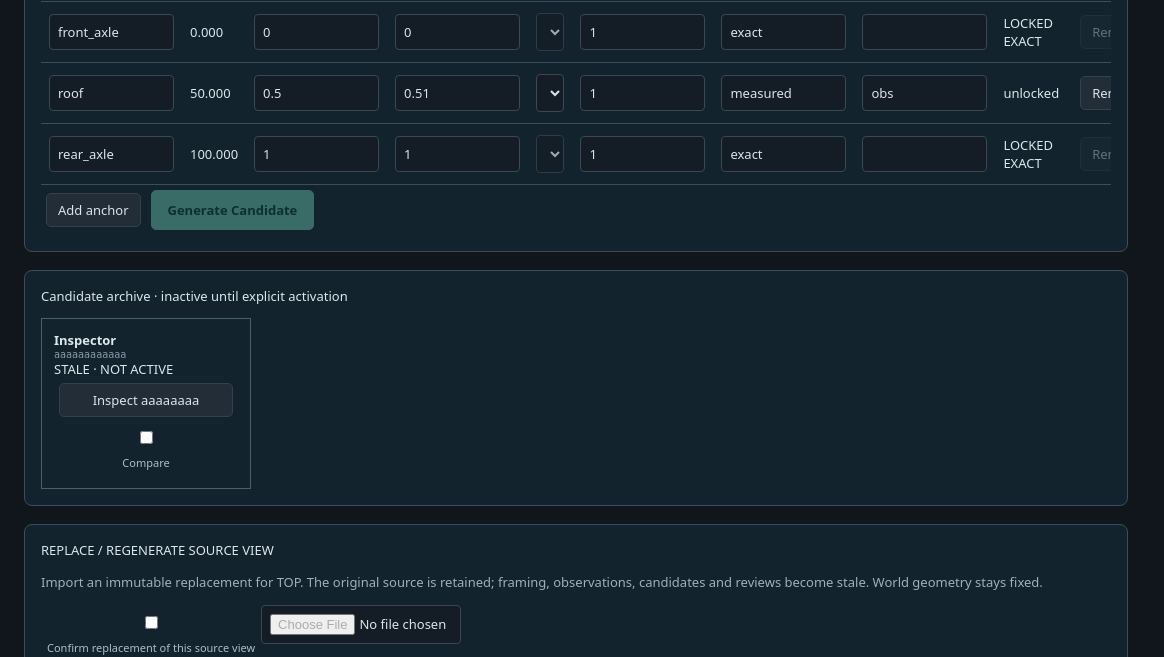
requires a rejection reason and keeps stale activation disabled
Later steps or results of the test are not shown.
(page scrolled)
Expected: the field named "Semantic 1" is shown, [49, 75, 174, 111]
Click the 6th button.
click(146, 400)  # box [59, 383, 233, 417]
(page scrolled)
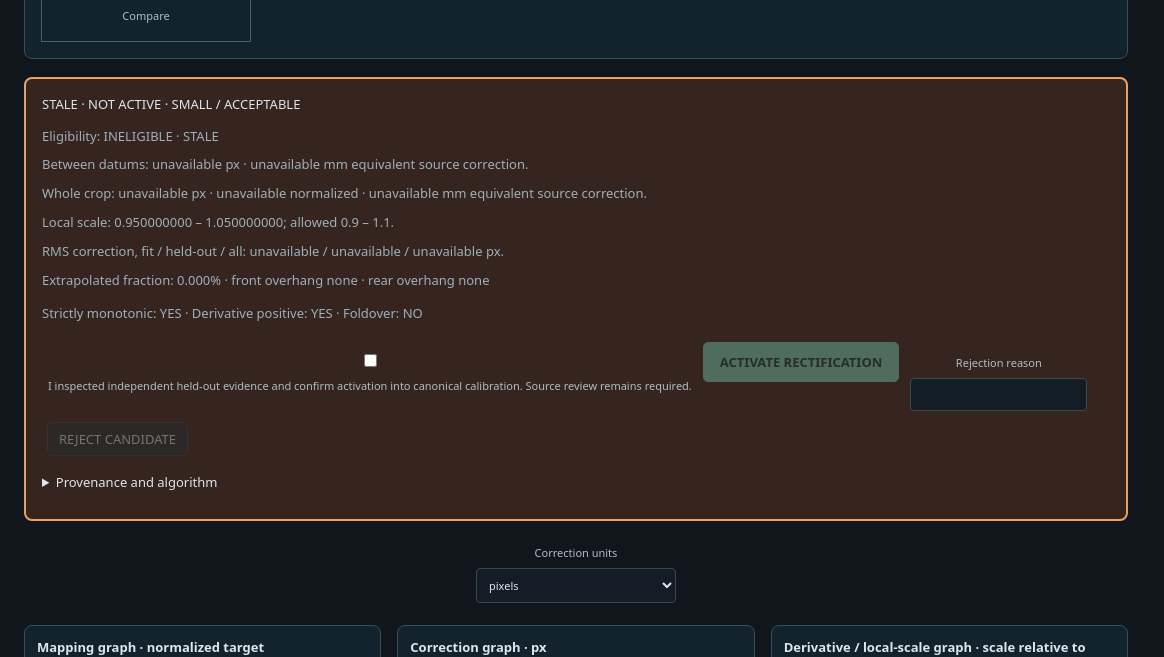
Expected: the element named "Candidate decision" is shown
Click the checkbox named "Confirm rectification activation".
click(370, 361)  # box [364, 354, 377, 367]
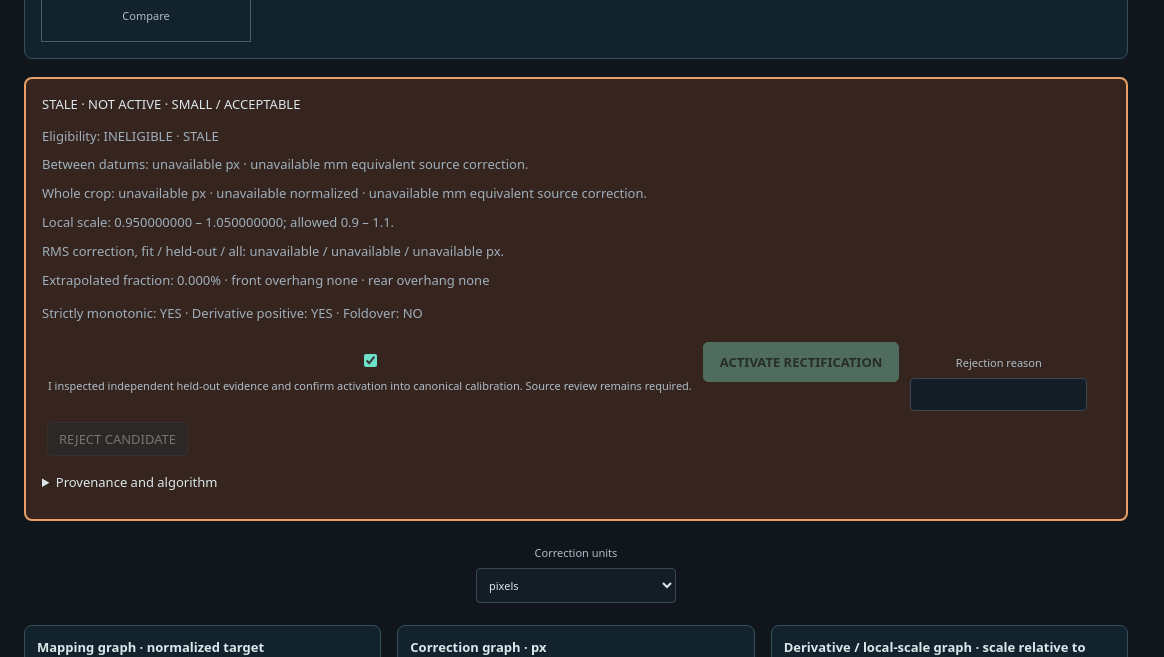
Expected: the button "ACTIVATE RECTIFICATION" is disabled, [703, 342, 899, 382]
